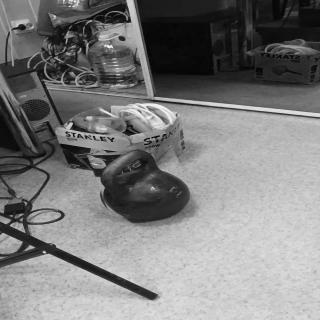kettlebell: (95, 148, 195, 226)
